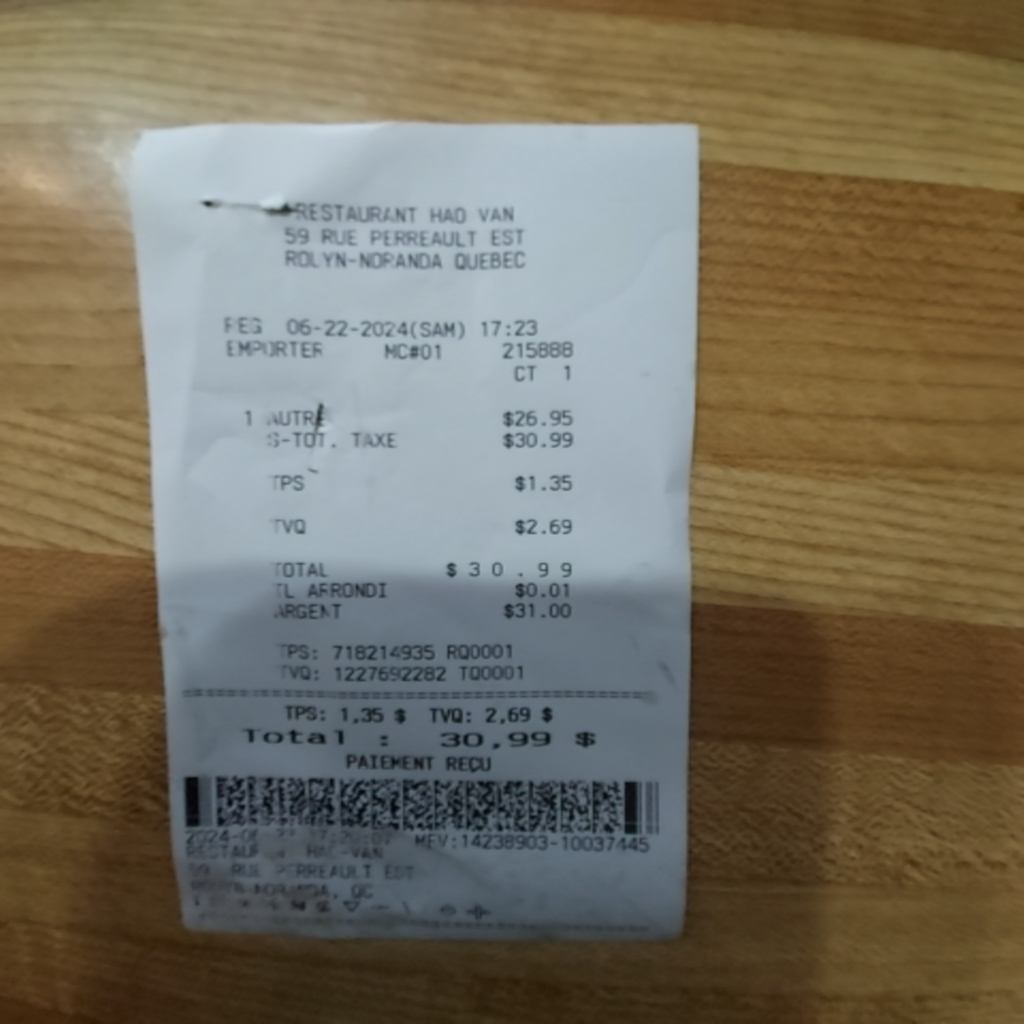recipt: (130, 122, 700, 934)
